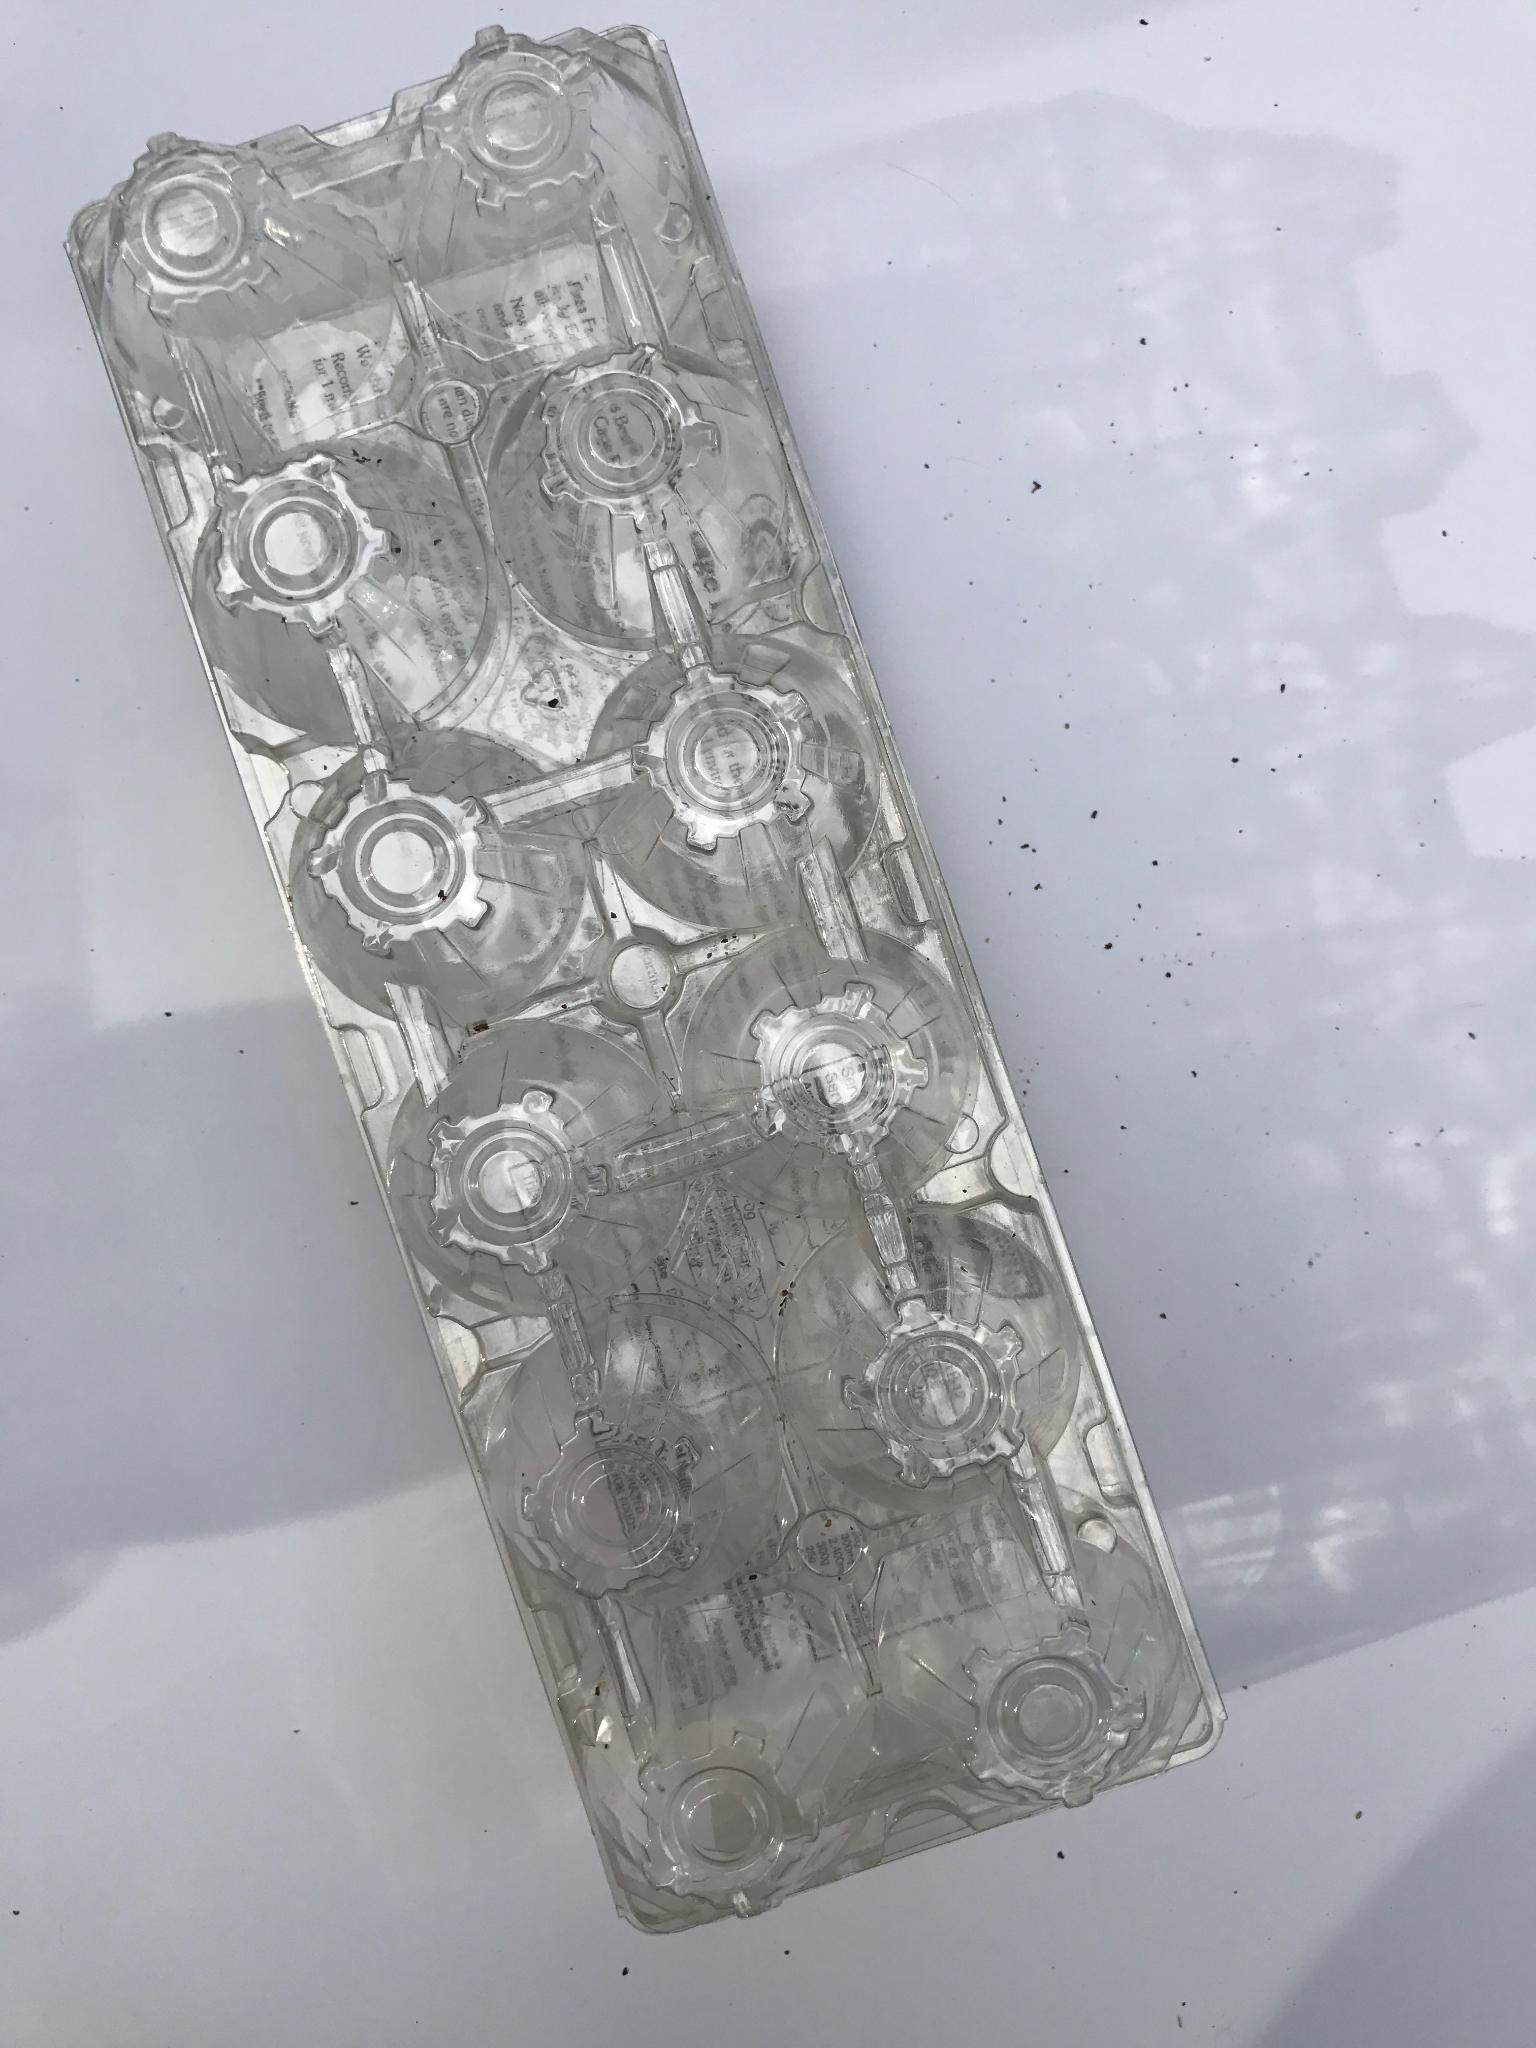Plastic: (53, 13, 1238, 1967)
